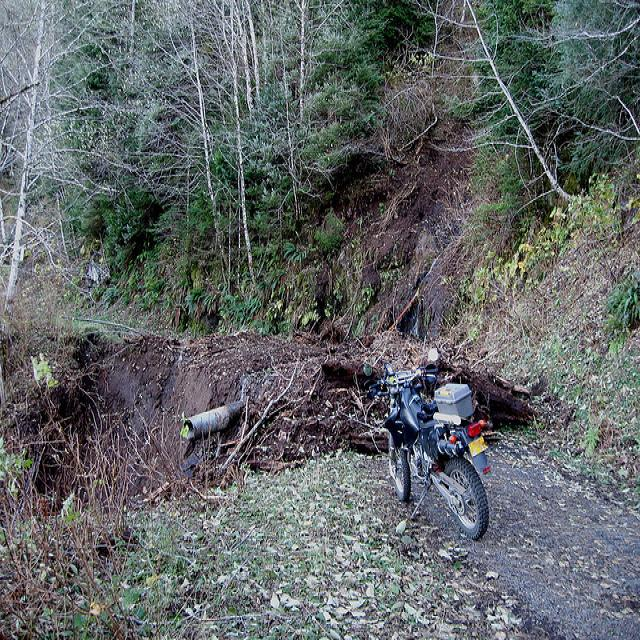motor: (369, 350, 492, 541)
